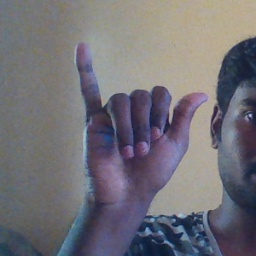J: (69, 41, 211, 200)
